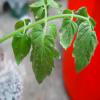Tomato mold leaf: (27, 25, 60, 87), (71, 21, 99, 74), (10, 33, 32, 67), (59, 17, 78, 51)
